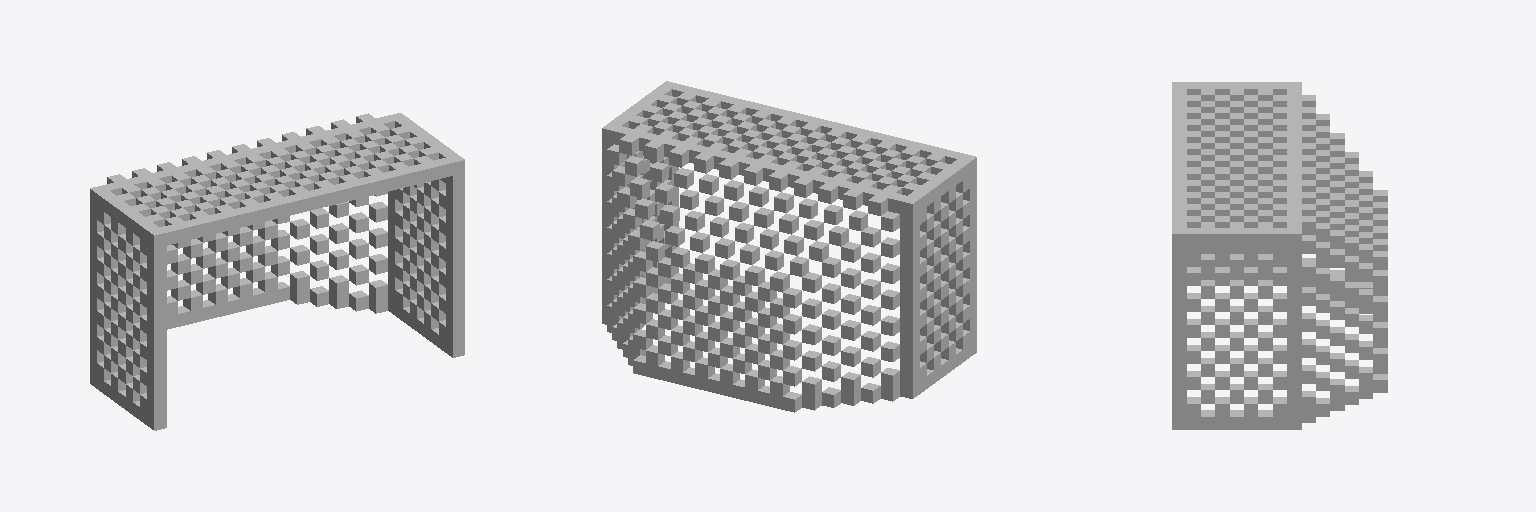
File: Hocky Net.obj
The picture shows the model from 3 angles: view 1: azimuth 30°, elevation 25°; view 2: azimuth 150°, elevation 25°; view 3: azimuth 270°, elevation 25°; orthographic projection.
Size of the model in its own units: 25 by 15 by 15.